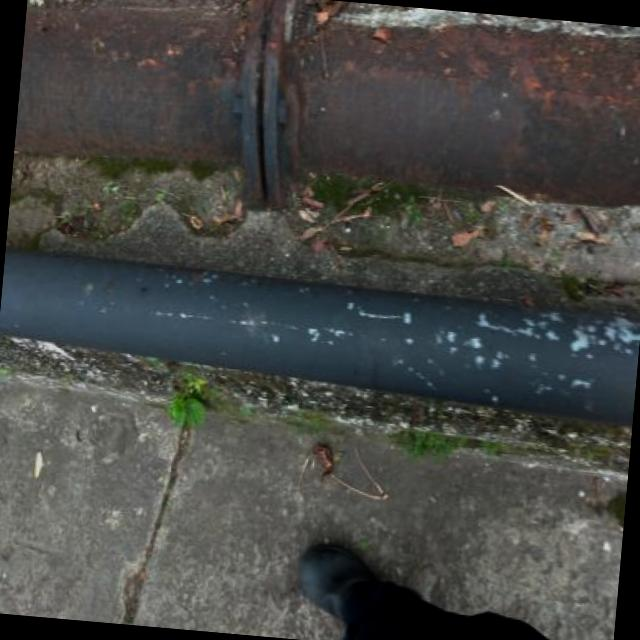gas: (10, 0, 640, 245), (0, 247, 640, 430)
